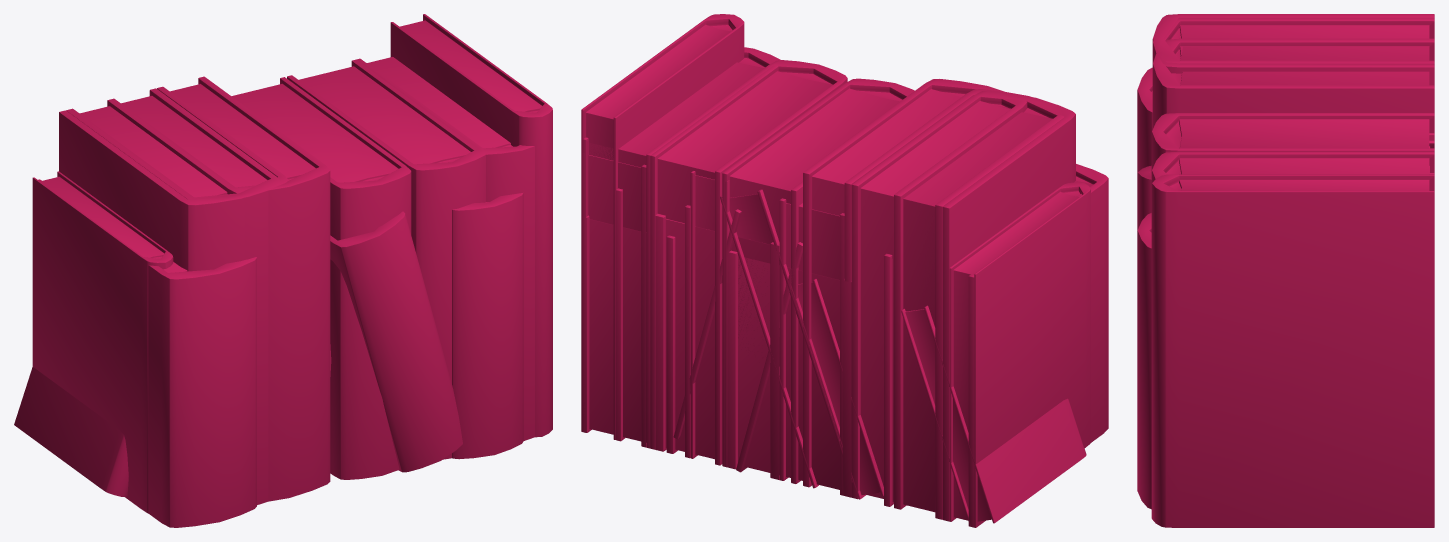
Rendered from SM_Books.fbx.
3 views of the same model, side by side, from view 1: azimuth 30°, elevation 25°; view 2: azimuth 150°, elevation 25°; view 3: azimuth 270°, elevation 25° (orthographic). The views are drawn at different scales.
Visible parts, largest first — view 1: BookSet2_lp, BookSet4_lp, BookSet3_lp, Book_lp, BookSet1_lp; view 2: BookSet2_lp, BookSet4_lp, BookSet3_lp, BookSet1_lp, Book_lp; view 3: BookSet2_lp, BookSet4_lp, Book_lp, BookSet3_lp, BookSet1_lp.
Boxes of the visible parts, left/top/right/bottom form: BookSet2_lp: left=32, top=14, right=552, bottom=513; BookSet4_lp: left=14, top=76, right=462, bottom=501; BookSet3_lp: left=38, top=58, right=486, bottom=527; Book_lp: left=231, top=77, right=411, bottom=479; BookSet1_lp: left=66, top=57, right=534, bottom=504; BookSet2_lp: left=581, top=14, right=1090, bottom=527; BookSet4_lp: left=581, top=79, right=1086, bottom=525; BookSet3_lp: left=581, top=60, right=1108, bottom=527; BookSet1_lp: left=581, top=47, right=1064, bottom=519; Book_lp: left=722, top=78, right=914, bottom=483; BookSet2_lp: left=1137, top=14, right=1434, bottom=527; BookSet4_lp: left=1137, top=38, right=1434, bottom=229; Book_lp: left=1151, top=113, right=1434, bottom=170; BookSet3_lp: left=1137, top=67, right=1434, bottom=183; BookSet1_lp: left=1152, top=17, right=1434, bottom=140.
Size of the model in its own units: 6.95 by 5.2 by 4.15.
